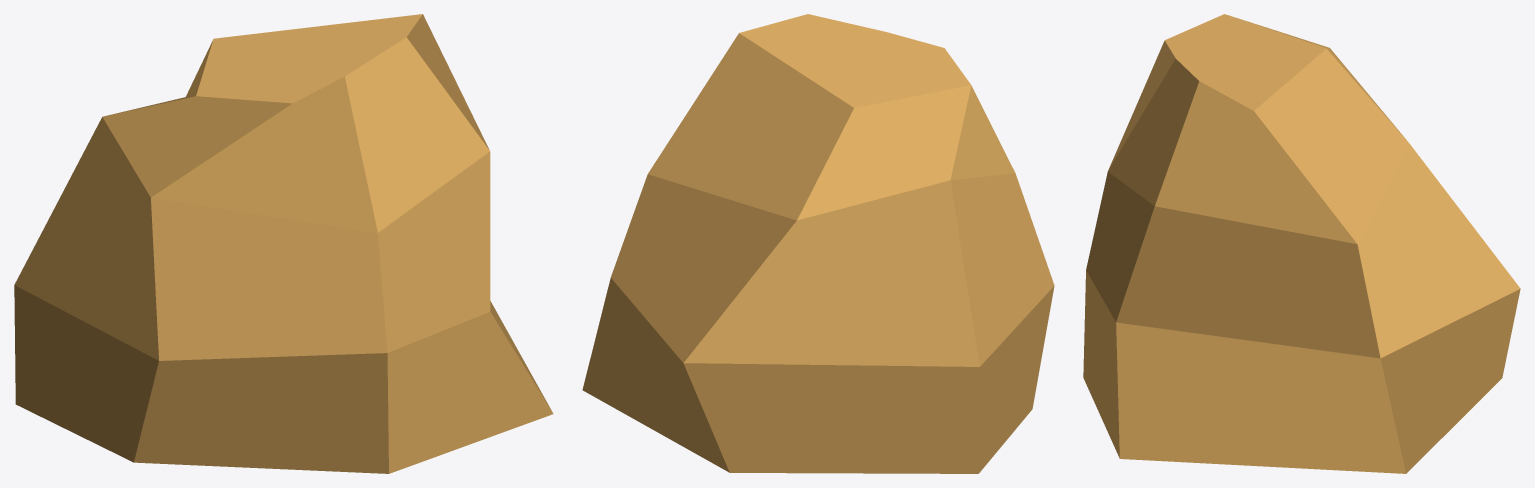
The model's file is stone_4.fbx.
3 views of the same model, side by side, from view 1: azimuth 30°, elevation 25°; view 2: azimuth 150°, elevation 25°; view 3: azimuth 270°, elevation 25° (orthographic). The views are drawn at different scales.
Parts seen in each view (by area): view 1: Plane.046; view 2: Plane.046; view 3: Plane.046.
Part boxes in pixels (<box>): Plane.046: <box>14,14,553,473</box>; Plane.046: <box>582,14,1054,473</box>; Plane.046: <box>1083,14,1520,473</box>.
Size of the model in its own units: 3009 by 2476 by 2950.
